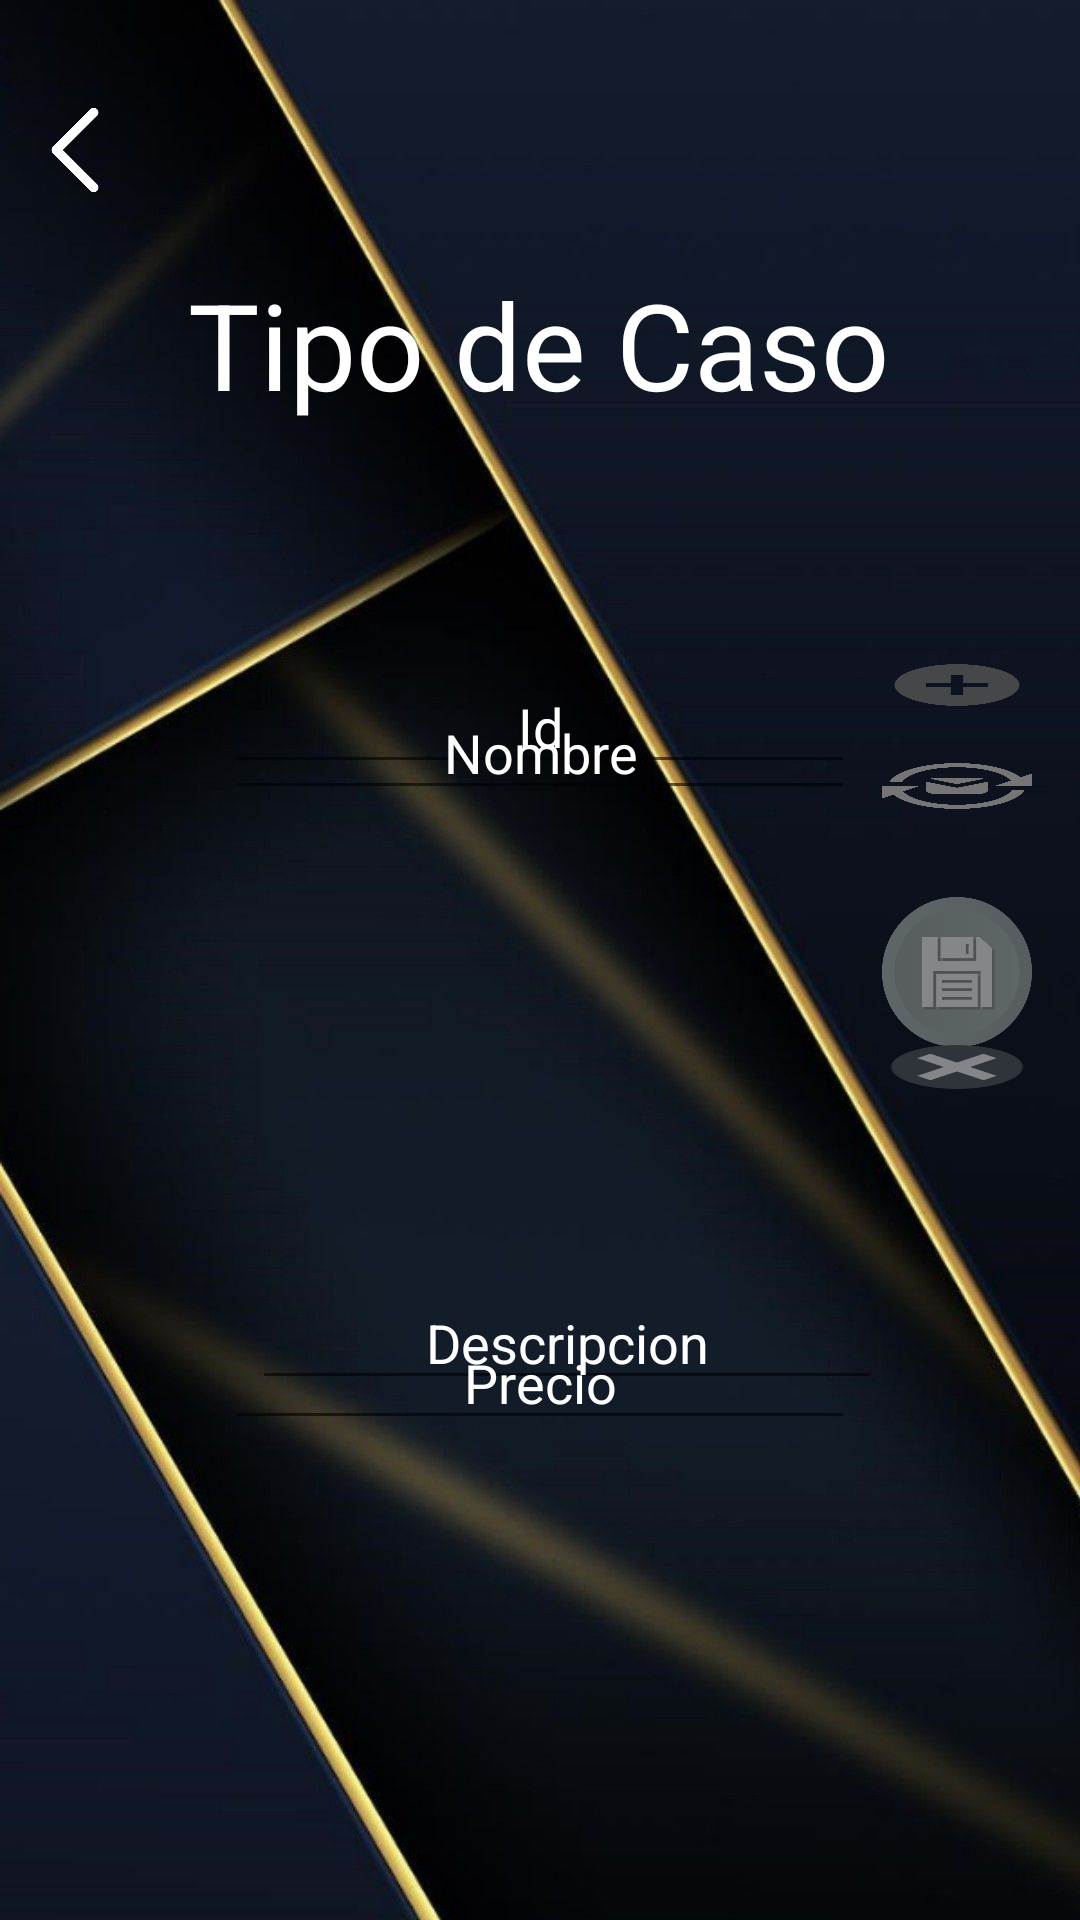

Icons on this 1080x1920 Android screen, each with its box as (x1=x1, y1=y1, x2=x2, y2=y2):
actualizar: (x1=882, y1=763, x2=1032, y2=809)
agregar: (x1=895, y1=664, x2=1019, y2=706)
eliminar: (x1=892, y1=1042, x2=1022, y2=1089)
guardar: (x1=882, y1=897, x2=1032, y2=1047)
